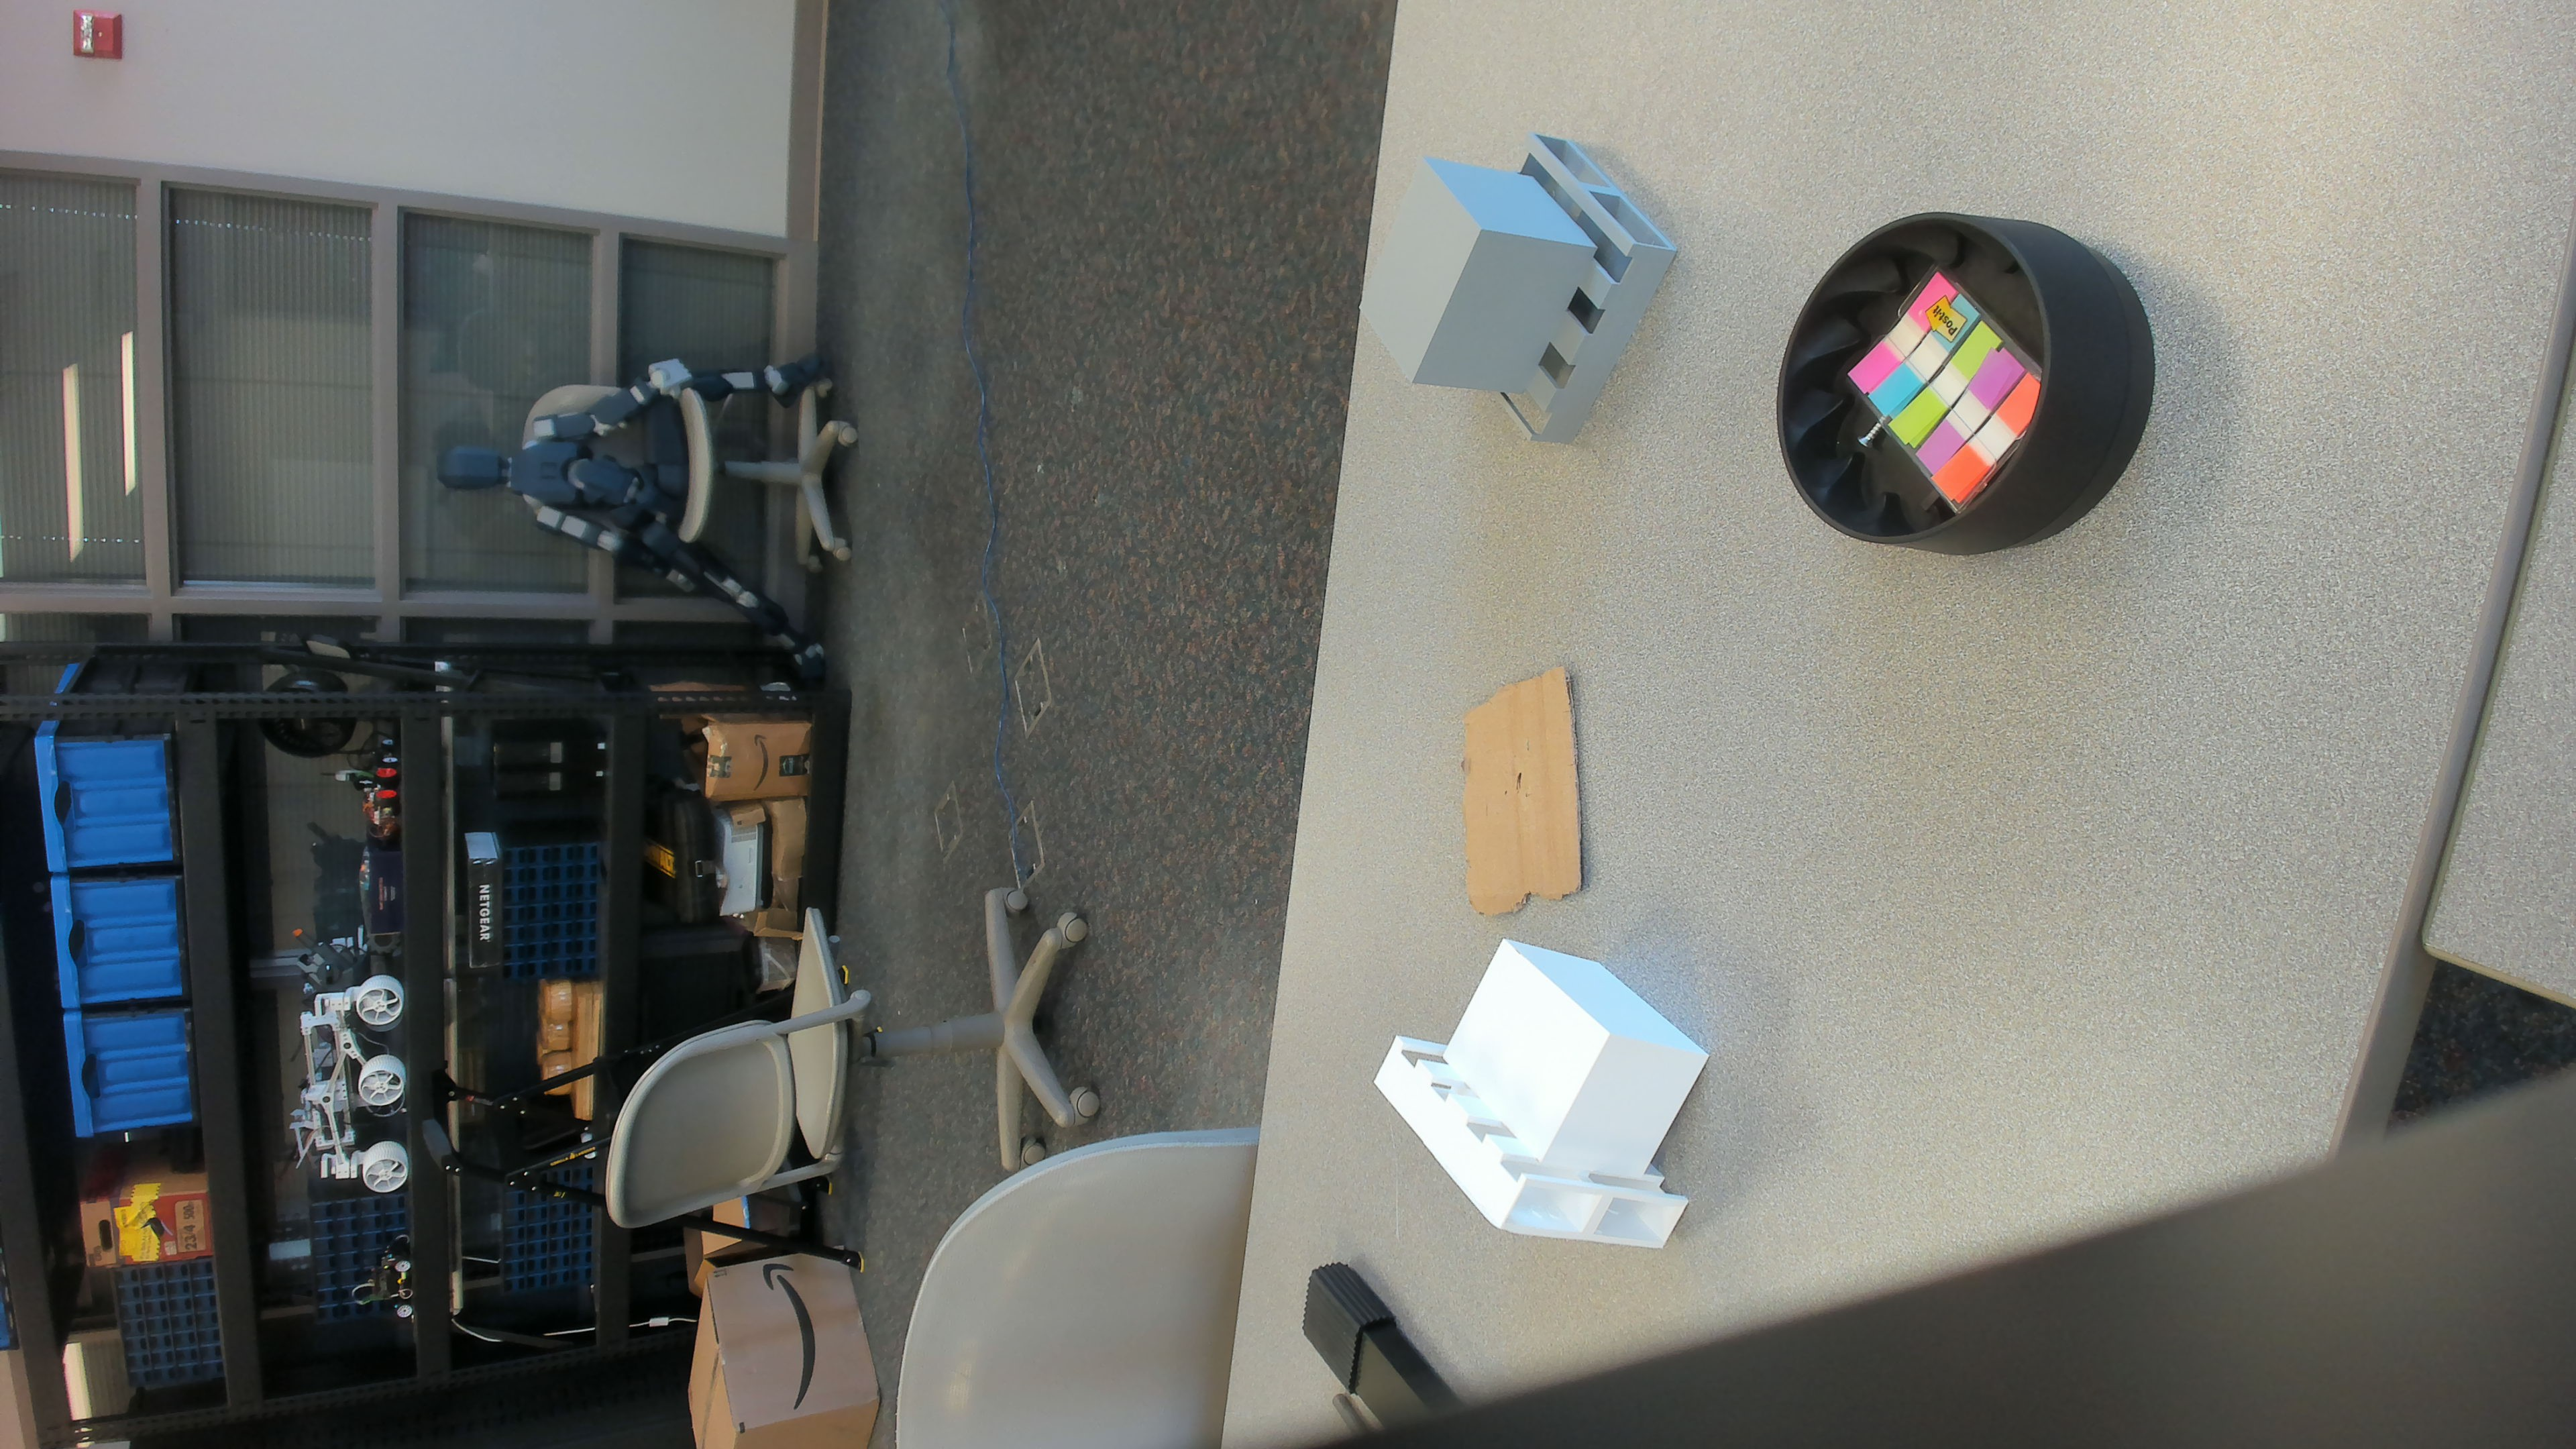grey pallet: (1338, 120, 1686, 460)
white pallet: (1353, 932, 1718, 1256)
